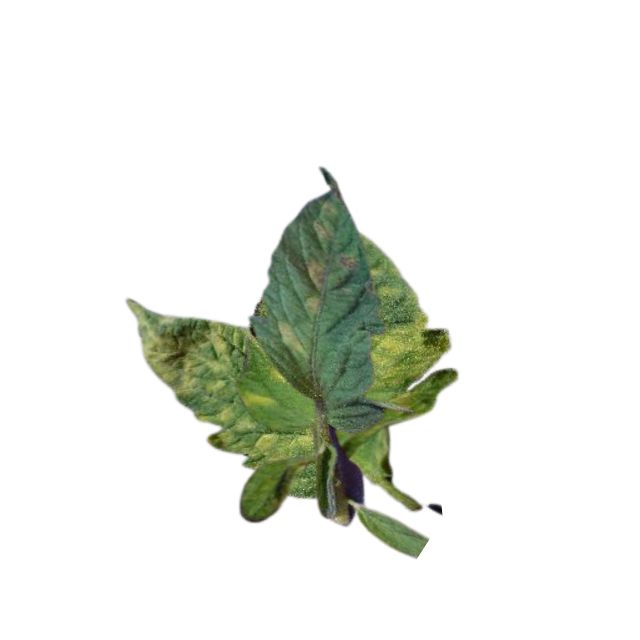Leaf_Mold: (126, 296, 246, 428), (363, 307, 459, 412), (213, 428, 319, 463), (272, 317, 310, 362), (304, 261, 328, 293), (242, 392, 280, 409), (303, 294, 322, 316)
